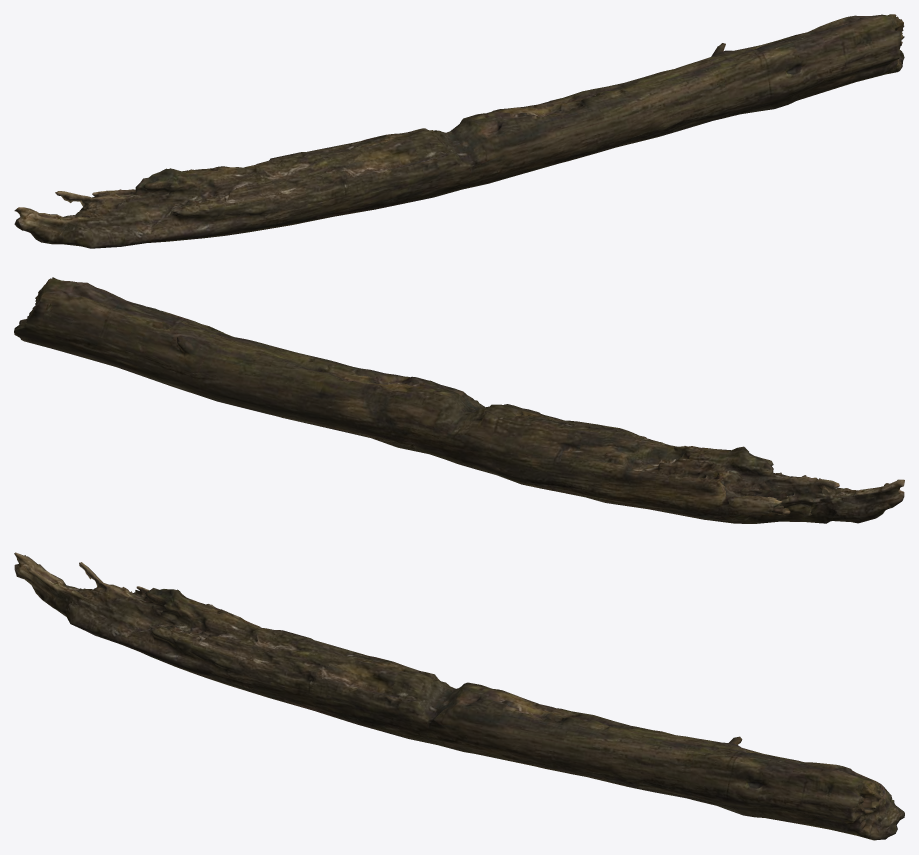
The model's file is tree-dead-trunk.312eed50.glb.
3 views of the same model, one above another, from view 1: azimuth 30°, elevation 25°; view 2: azimuth 150°, elevation 25°; view 3: azimuth 330°, elevation 25° (orthographic).
Visible parts, largest first — view 1: model; view 2: model; view 3: model.
Part boxes in pixels (x1,y1,x2,y2): model: [14, 14, 904, 248]; model: [14, 277, 904, 523]; model: [14, 552, 904, 840].
Bounding box in the file's own units: 3.05 × 0.2899 × 0.2766.
Materials: 1 (1 with a texture image).
